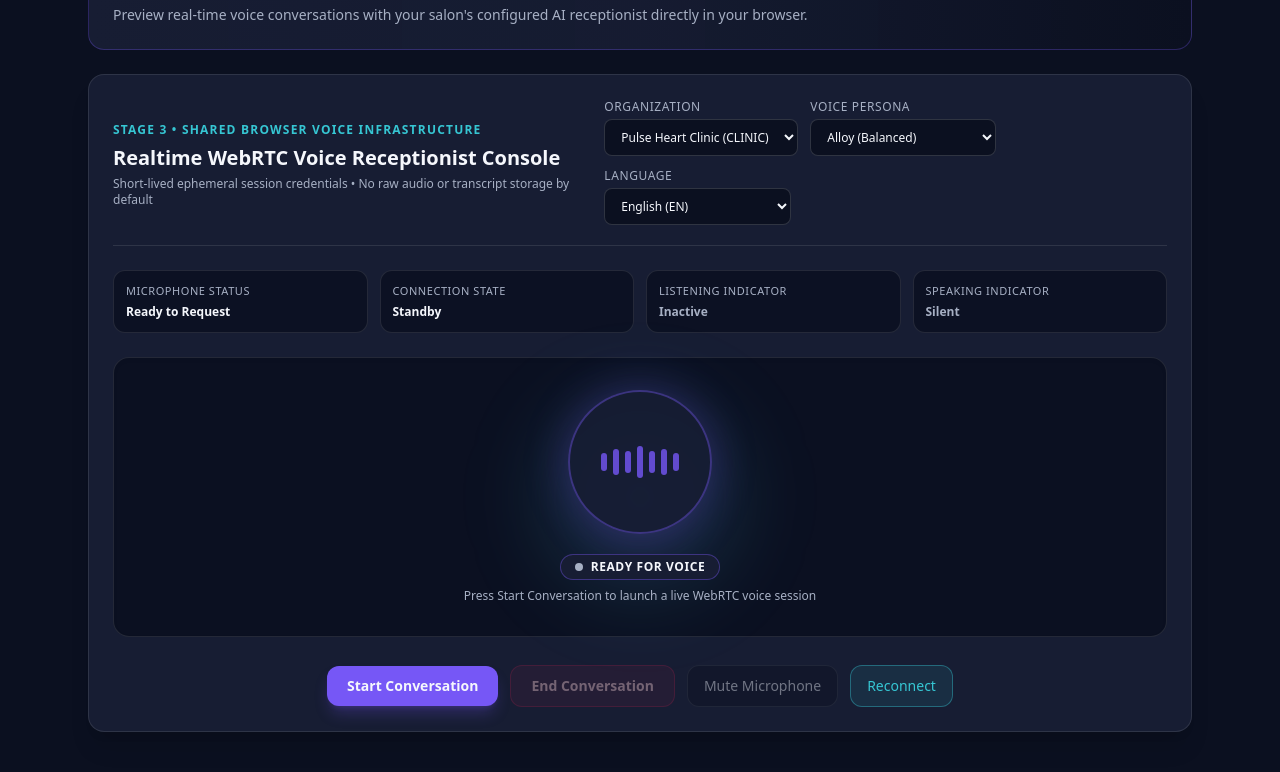
Scenario: Stage 4 — Realtime Agent Tool Calling, Escalation UI & Language Selector › displays the human escalation status banner when request_human_escalation succeeds
(page scrolled)
Click the button with test id "start-conversation-button": (413, 686) [327, 666, 498, 706]
(page scrolled)
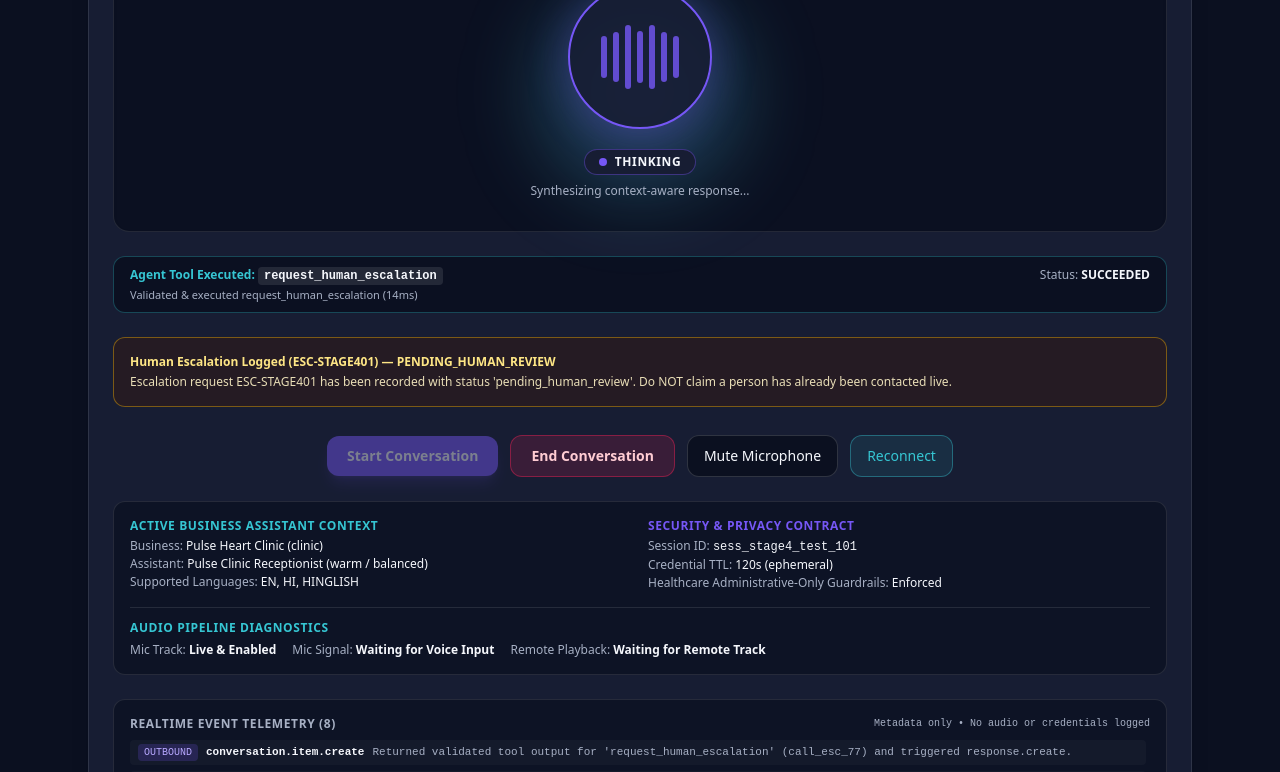
Result: the message with test id "human-escalation-banner" is shown at [113, 337, 1167, 407]
Result: the message with test id "human-escalation-banner" shows "ESC-STAGE401" at [293, 353, 374, 370]
Result: the message with test id "human-escalation-banner" shows "pending_human_review" at [397, 353, 556, 370]
